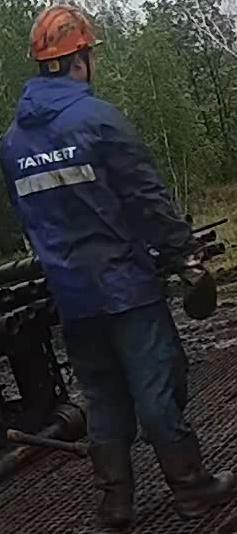gloves: (172, 247, 220, 321)
helmet: (27, 4, 103, 67)
vest: (0, 74, 156, 319)
